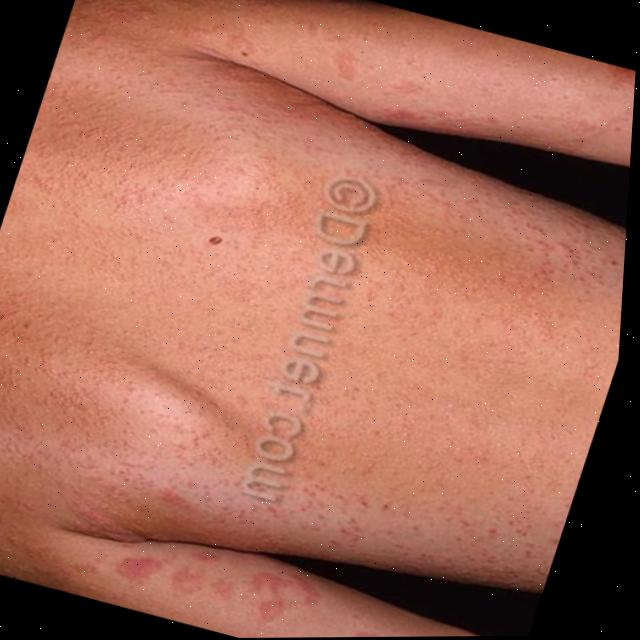Eczema: (153, 0, 640, 387), (0, 326, 589, 640)
